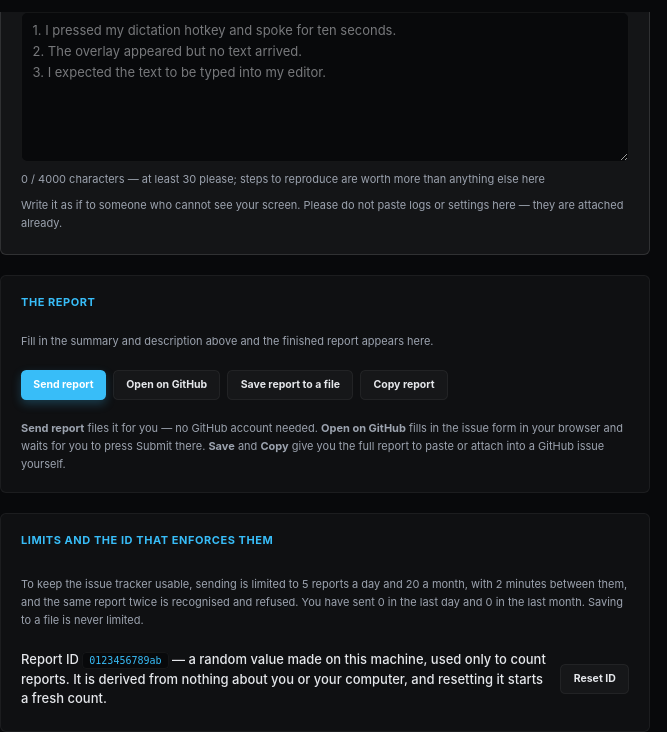
Test: BugReportTab › the report ID can be thrown away
The width and height of the screenshot is (667, 732).
(page scrolled)
Click the button "Reset ID". click: click(595, 679)
box: [560, 664, 629, 694]
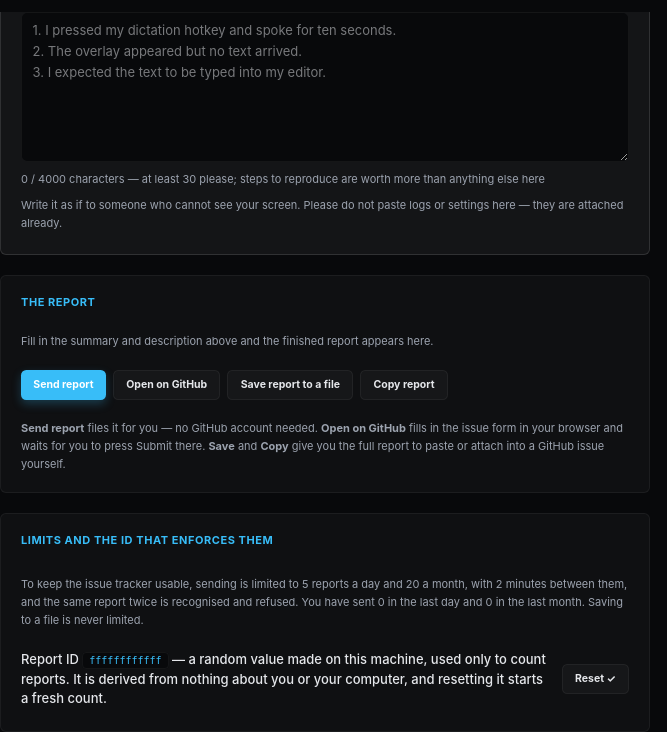
Expected: the button "Reset ✓" is shown, [562, 664, 629, 694]
Expected: the text "ffffffffffff" is shown, [82, 652, 169, 669]
